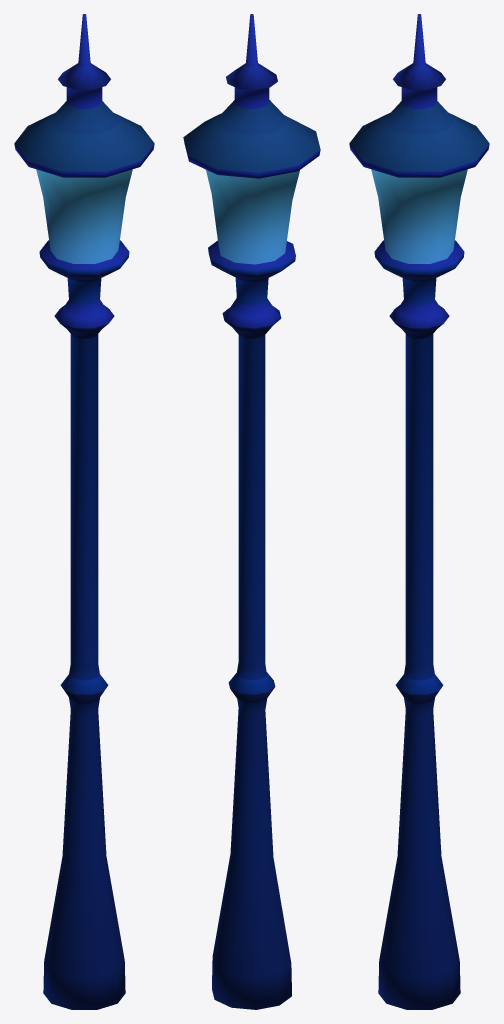
Rendered from Lampadaire.fbx.
3 views of the same model, side by side, from view 1: azimuth 90°, elevation 25°; view 2: azimuth 150°, elevation 25°; view 3: azimuth 270°, elevation 25° (orthographic).
Parts seen in each view (by area): view 1: Cylinder; view 2: Cylinder; view 3: Cylinder.
Boxes of the visible parts, x1,y1,x2,y2 form: Cylinder: (14, 14, 154, 1009); Cylinder: (183, 14, 320, 1009); Cylinder: (349, 14, 489, 1009).
Size of the model in its own units: 207 by 1669 by 217.
